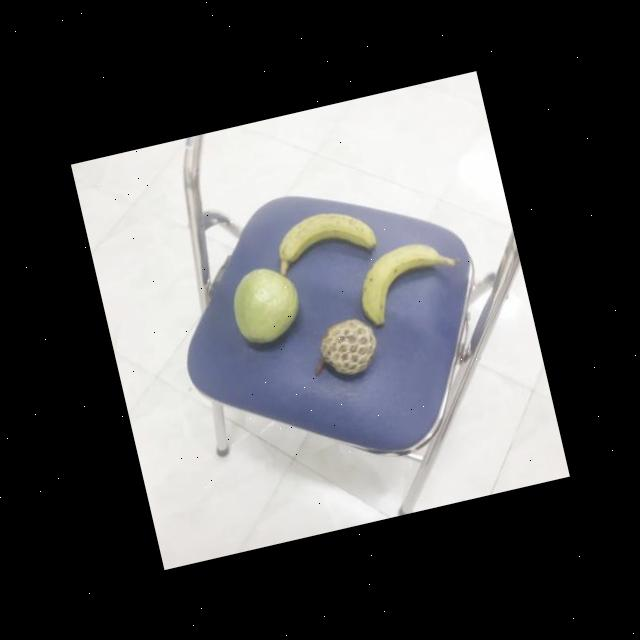Sakya fruit: (304, 314, 382, 382)
banana: (346, 240, 447, 330), (268, 204, 379, 278)
guava: (223, 261, 308, 349)
